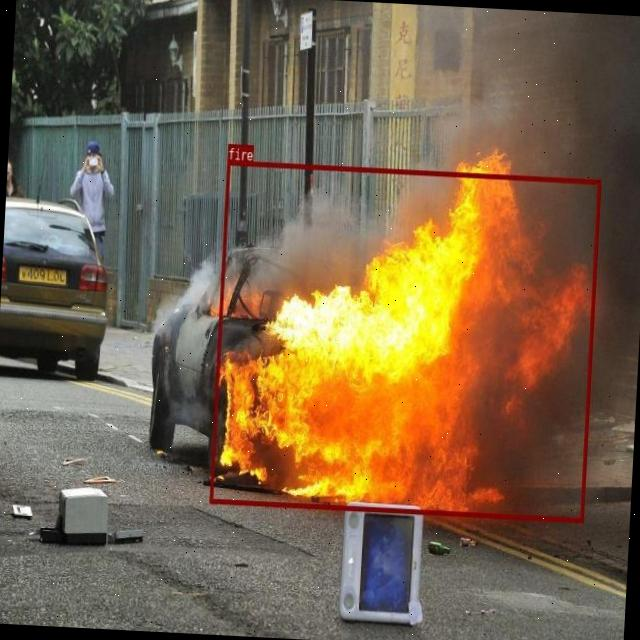fire: (210, 160, 600, 522)
